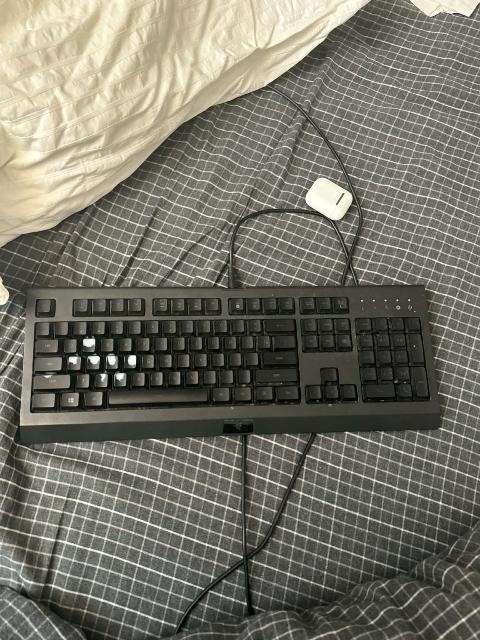ahkeyboard: (9, 274, 451, 448)
